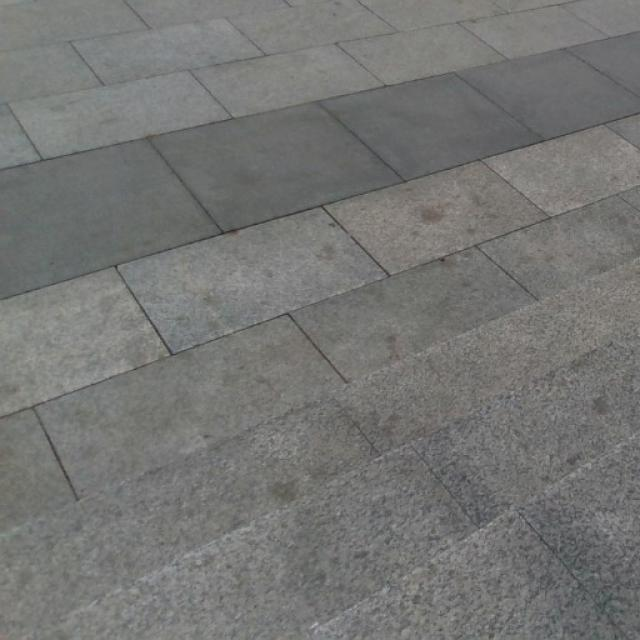stair: (123, 275, 640, 640)
